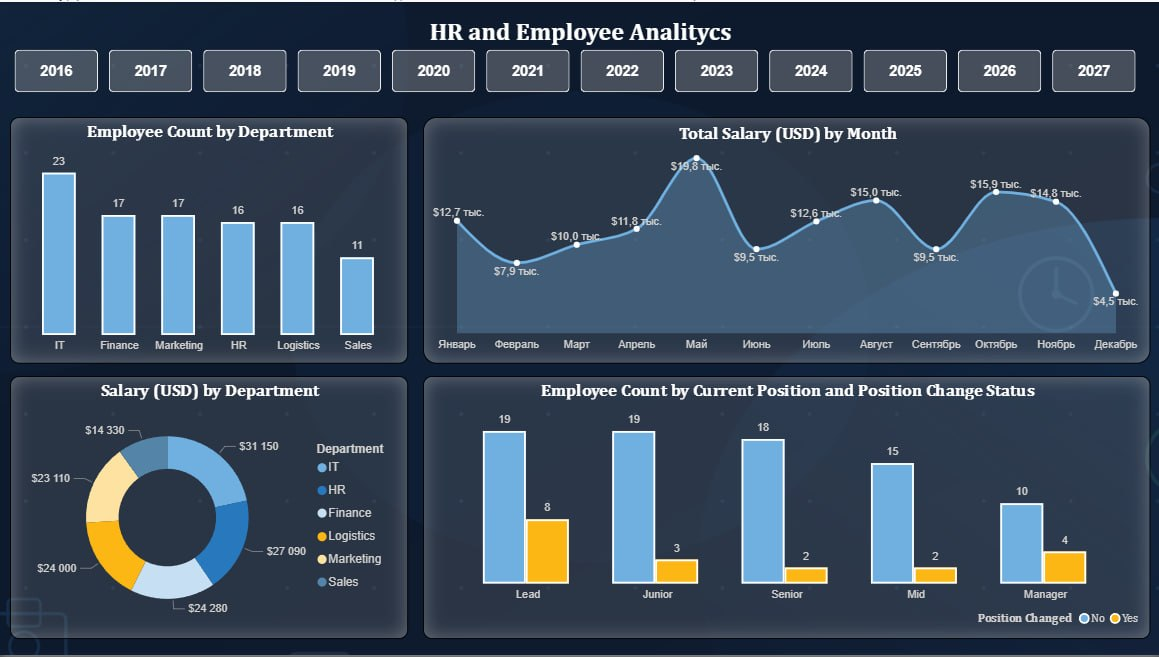

This screenshot's page, from the dashboard's own definition file:
{"tool":"powerbi","page":{"name":"Страница 1","canvas":[1280,720],"ordinal":0},"visuals":[{"type":"clusteredColumnChart","title":"Employee Count by Current Position and Position Change Status","fields":{"Category":["hr.Current Position"],"Y":["CountNonNull(hr.Employee ID)"],"Series":["hr.Position Changed"]},"box":[466.1,412.7,802.4,290.1],"z":0},{"type":"advancedSlicerVisual","title":"HR and Employee Analitycs","fields":{"Values":["hr.Last Raise Date.Изменение.Иерархия дат.Год"]},"box":[11,16.5,1258,88.2],"z":1000},{"type":"donutChart","title":"Salary (USD) by Department","fields":{"Category":["hr.Department"],"Y":["Sum(hr.Salary (USD))"]},"box":[11.5,412.7,438.9,290.1],"z":2000},{"type":"clusteredColumnChart","title":"Employee Count by Department","fields":{"Category":["hr.Department"],"Y":["CountNonNull(hr.Employee ID)"]},"box":[11,126.8,438.8,272.3],"z":3000},{"type":"areaChart","title":"Total Salary (USD) by Month","fields":{"Category":["hr.Last Raise Date.Изменение.Иерархия дат.Месяц"],"Y":["Sum(hr.Salary (USD))"]},"box":[466.1,126.7,802.4,272.3],"z":4000}]}

Visuals, with their boxes in screenshot pixels (x1, y1, x2, y2), scaled from the page's 1280x720 canvas onto the 1159x657 screenshot:
"Employee Count by Current Position and Position Change Status" clusteredColumnChart: left=422, top=377, right=1149, bottom=641
"HR and Employee Analitycs" advancedSlicerVisual: left=10, top=15, right=1149, bottom=96
"Salary (USD) by Department" donutChart: left=10, top=377, right=408, bottom=641
"Employee Count by Department" clusteredColumnChart: left=10, top=116, right=407, bottom=364
"Total Salary (USD) by Month" areaChart: left=422, top=116, right=1149, bottom=364
